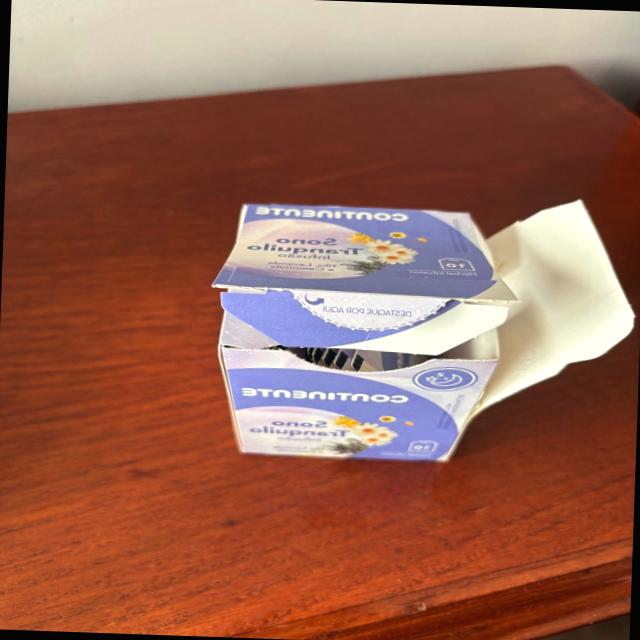damaged_package: (203, 185, 640, 468)
